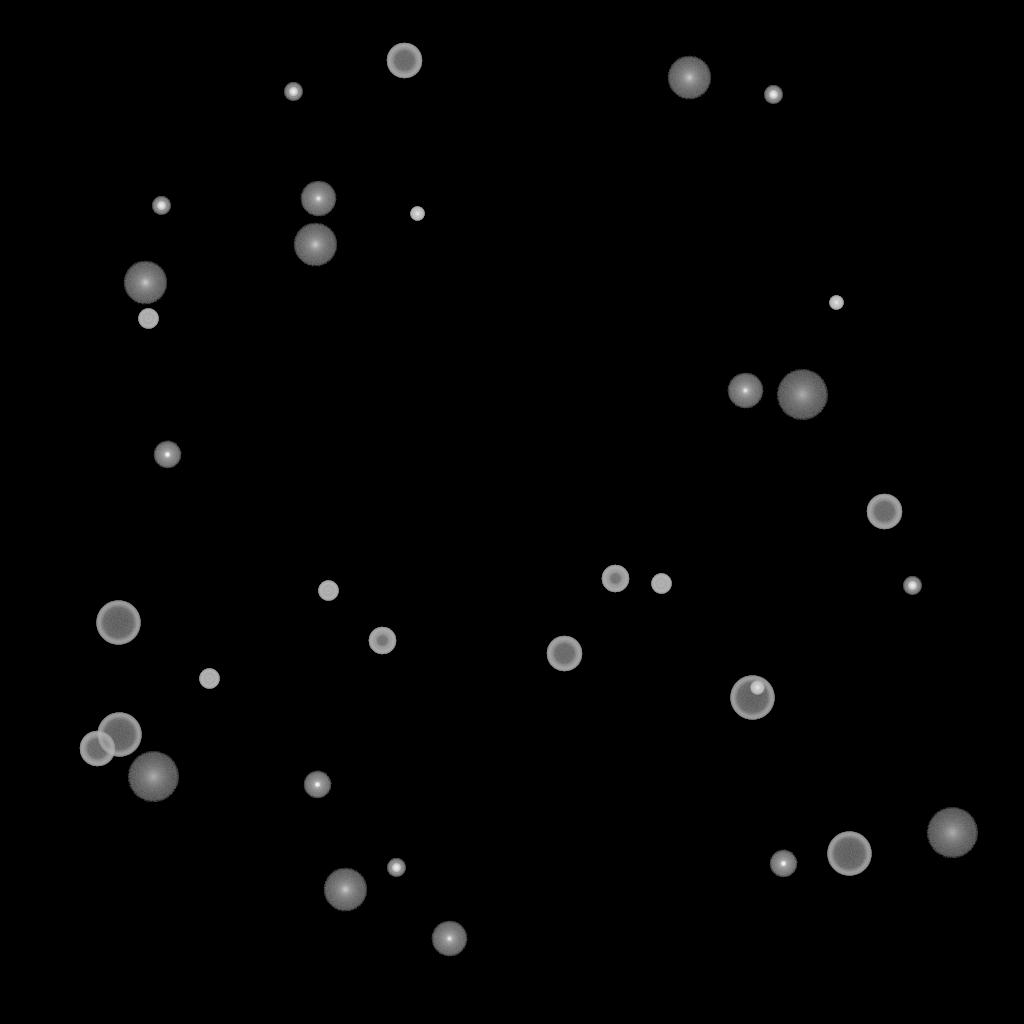depth:-10: (153, 441, 181, 469), (303, 771, 331, 799), (769, 850, 797, 878)
depth:-20: (903, 577, 921, 595), (764, 86, 782, 104), (284, 83, 302, 101), (152, 197, 170, 215), (387, 859, 405, 877)
depth:-30: (410, 207, 424, 221), (750, 681, 764, 695), (829, 296, 843, 310)
depth:-40: (651, 574, 671, 594), (199, 669, 219, 689), (138, 309, 158, 329), (318, 581, 338, 601)
depth:-50: (601, 565, 629, 593), (368, 627, 396, 655)
depth:-60: (79, 731, 115, 767), (866, 494, 902, 530), (546, 636, 582, 672), (386, 43, 422, 79)
depth:-70: (96, 601, 140, 645), (97, 713, 141, 757), (730, 676, 774, 720), (827, 832, 871, 876)
depth:0: (431, 921, 467, 957), (300, 181, 336, 217), (727, 373, 763, 409)
depth:10: (293, 223, 337, 267), (323, 868, 367, 912), (123, 261, 167, 305), (667, 56, 711, 100)
depth:20: (926, 808, 978, 858), (776, 370, 828, 420), (127, 752, 179, 802)
